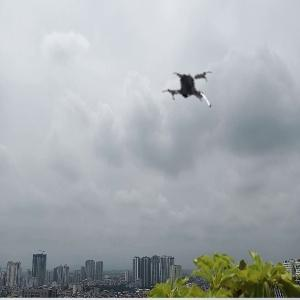drone: (160, 62, 224, 126)
